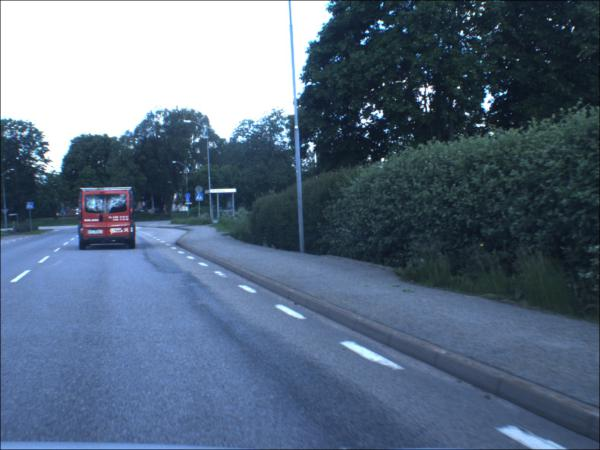PEDESTRIAN_CROSSING: (197, 194, 205, 202), (27, 203, 36, 210)
